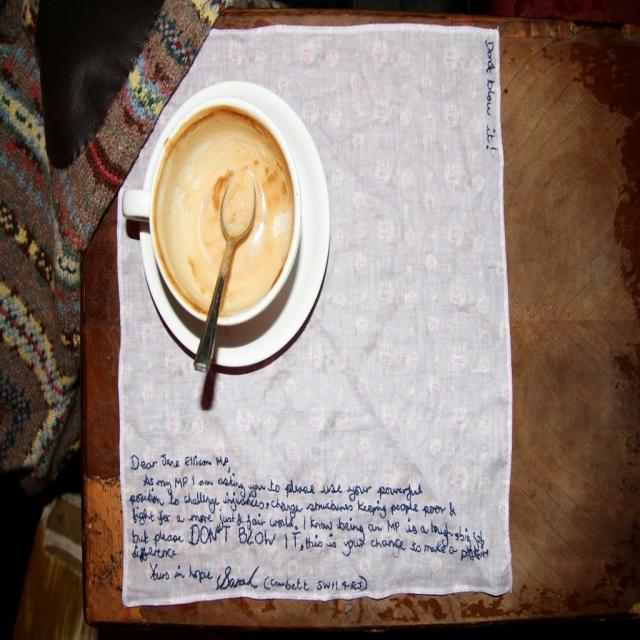Coffee: (133, 89, 273, 337)
